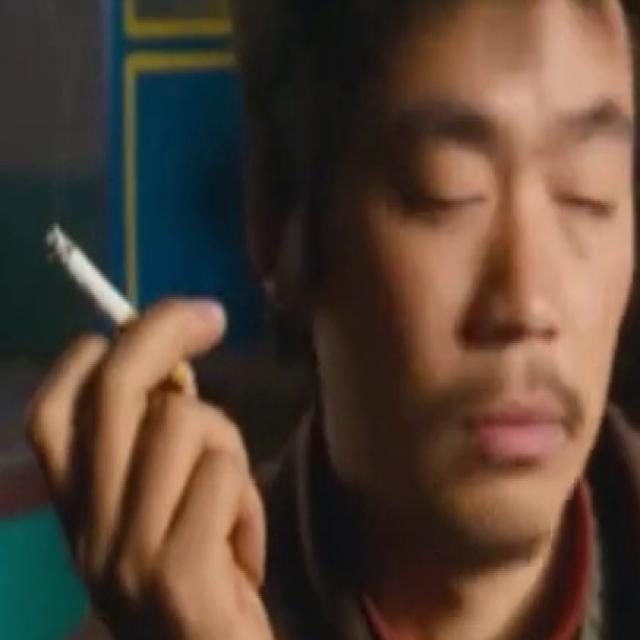smoking: (45, 225, 191, 385)
